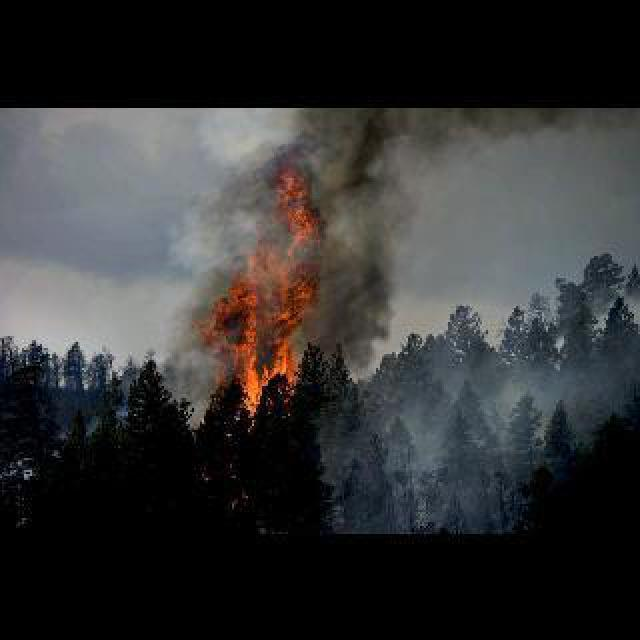smoke: (288, 98, 402, 359), (399, 98, 638, 172), (199, 130, 286, 234)
zfire: (198, 166, 318, 412)
